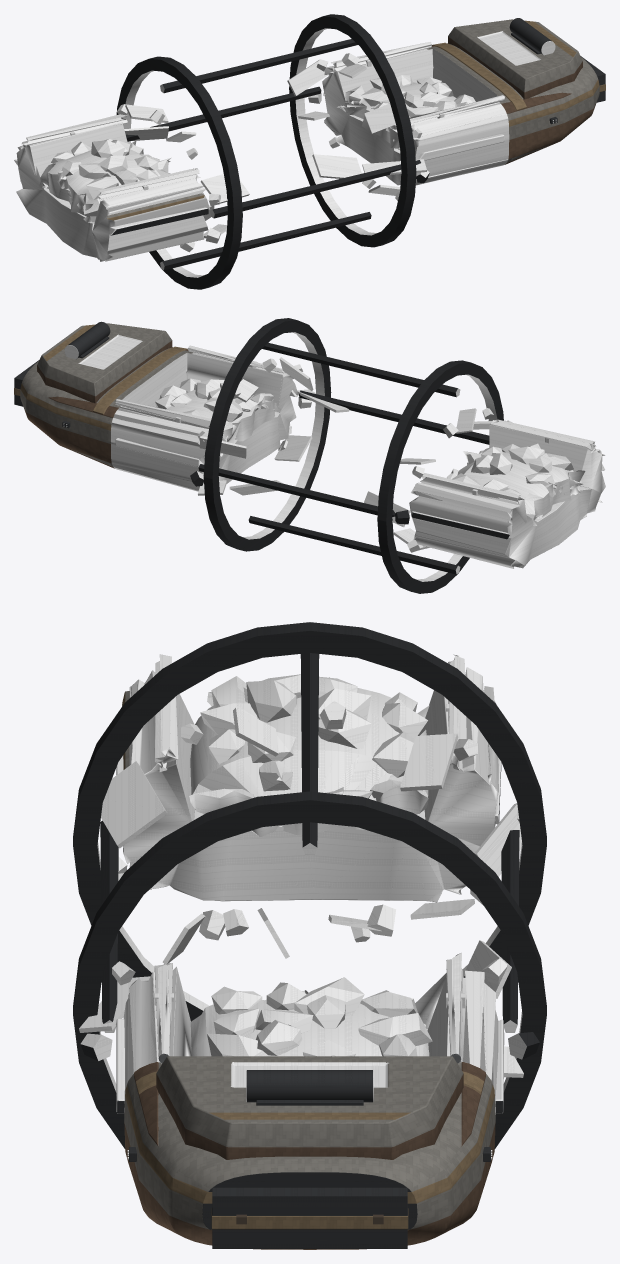
The model's file is wreck_ore_freighter_bow__derelict.glb.
The picture shows the model from 3 angles, top to bottom: view 1: azimuth 30°, elevation 25°; view 2: azimuth 150°, elevation 25°; view 3: azimuth 270°, elevation 25°; orthographic projection. The views are drawn at different scales.
Parts seen in each view (by area): view 1: Hull.001, Hull, GapRing1, GapRing0, Forecastle, H2Heap, GapChord3, GapChord2, GapChord1, GapChord0, PipeRun_M, H0Heap.001 (+17 smaller); view 2: Hull.001, Hull, GapRing1, GapRing0, Forecastle, H2Heap, GapChord3, GapChord2, H0Heap.001, GapChord0, GapChord1, PipeRun (+12 smaller); view 3: Hull.001, Hull, GapRing0, GapRing1, Forecastle, BowFender, H2Heap, Windlass, H0Heap.001, woundFore_t_tear3, GapChord2, woundFore_t_tear1 (+31 smaller).
Boxes of the visible parts, <box> form: Hull.001: <box>322,42,599,185</box>; Hull: <box>16,122,209,261</box>; GapRing1: <box>289,14,416,247</box>; GapRing0: <box>116,56,242,289</box>; Forecastle: <box>448,19,582,99</box>; H2Heap: <box>38,149,170,223</box>; GapChord3: <box>160,212,371,270</box>; GapChord2: <box>160,39,357,93</box>; GapChord1: <box>210,160,420,218</box>; GapChord0: <box>126,86,321,141</box>; PipeRun_M: <box>98,168,200,199</box>; H0Heap.001: <box>337,82,456,149</box>; Hull.001: <box>20,346,298,491</box>; Hull: <box>409,425,605,568</box>; GapRing1: <box>203,318,331,551</box>; GapRing0: <box>377,360,503,593</box>; Forecastle: <box>37,323,172,403</box>; H2Heap: <box>457,452,582,525</box>; GapChord3: <box>248,516,460,574</box>; GapChord2: <box>262,343,460,397</box>; H0Heap.001: <box>166,390,280,456</box>; GapChord0: <box>198,464,409,519</box>; GapChord1: <box>298,390,489,444</box>; PipeRun: <box>420,473,524,504</box>; Hull.001: <box>123,966,498,1249</box>; Hull: <box>122,667,498,902</box>; GapRing0: <box>73,622,546,1021</box>; GapRing1: <box>73,791,546,1148</box>; Forecastle: <box>156,1056,463,1159</box>; BowFender: <box>211,1187,408,1248</box>; H2Heap: <box>190,687,428,837</box>; Windlass: <box>246,1070,373,1102</box>; H0Heap.001: <box>190,999,429,1056</box>; woundFore_t_tear3: <box>101,761,167,848</box>; GapChord2: <box>300,653,319,855</box>; woundFore_t_tear1: <box>400,733,458,791</box>.
Bounding box in the file's own units: 179 × 70.12 × 70.12.
Materials: 14 (13 with a texture image).
